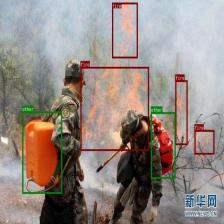fire: (80, 66, 148, 150), (112, 2, 137, 58), (175, 80, 187, 145), (194, 130, 214, 154)
